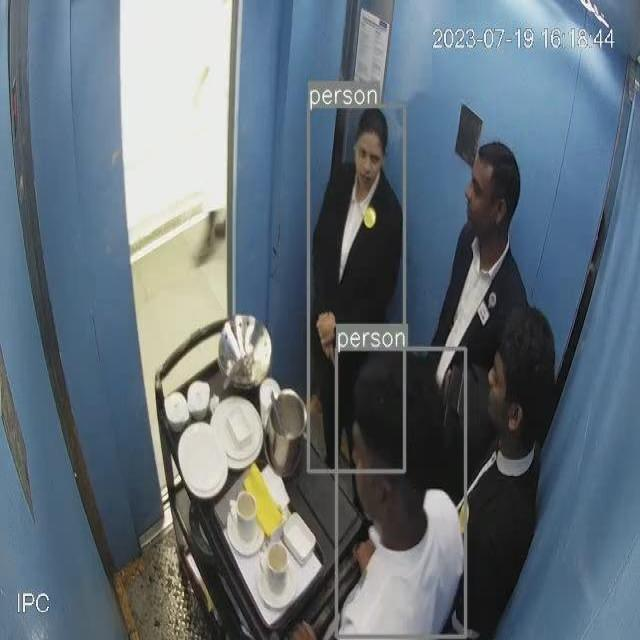person: (319, 111, 423, 509), (421, 117, 546, 426), (334, 349, 464, 640), (466, 302, 554, 640)
